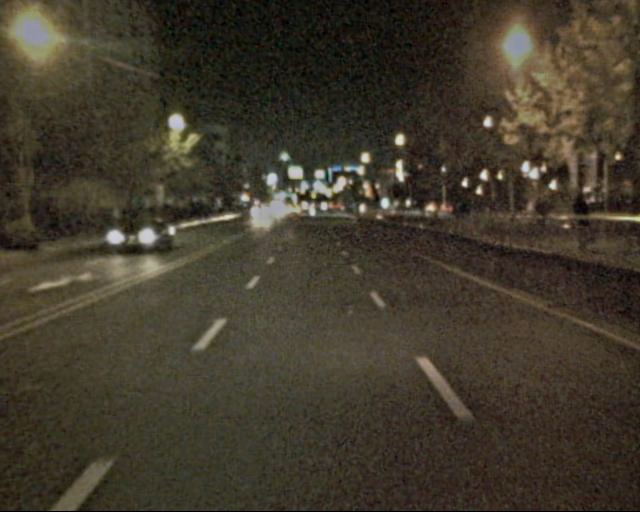person: (563, 189, 594, 259), (524, 189, 555, 257), (450, 196, 473, 222)
